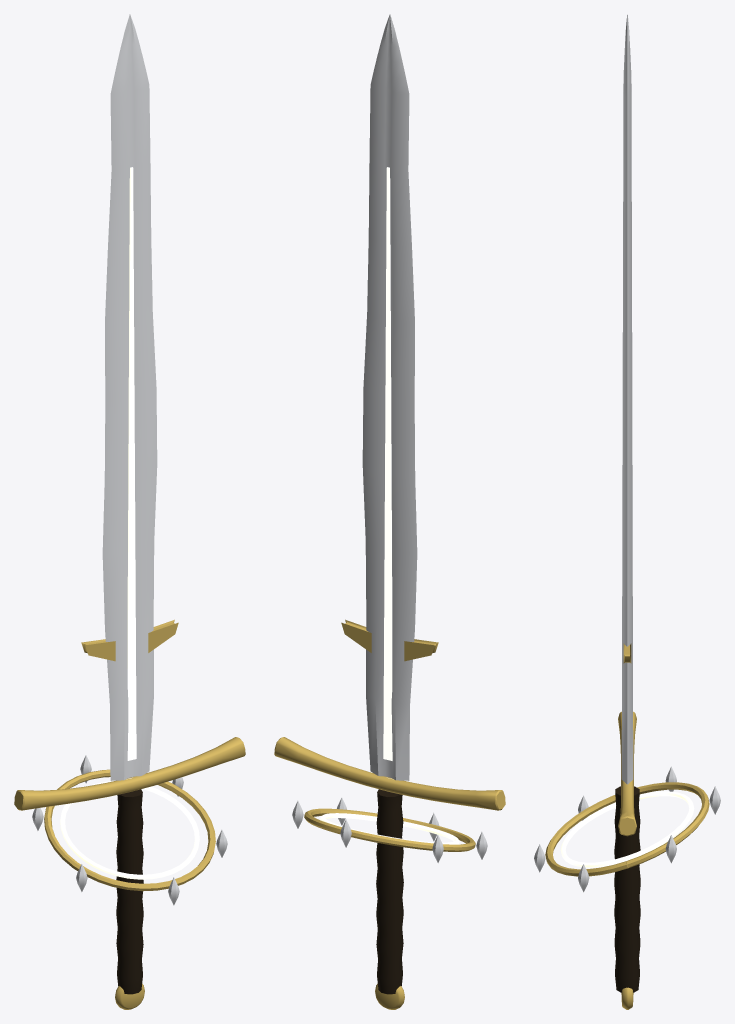
Rendered from esc_w_knight_greatsword_6.glb.
3 renders of one model, left to right at view 1: azimuth 30°, elevation 25°; view 2: azimuth 150°, elevation 25°; view 3: azimuth 270°, elevation 25°, orthographic.
Parts seen in each view (by area): view 1: esc_w_knight_greatsword_6; view 2: esc_w_knight_greatsword_6; view 3: esc_w_knight_greatsword_6.
Part boxes in pixels (bbox=[...]): esc_w_knight_greatsword_6: bbox=[14, 14, 245, 1009]; esc_w_knight_greatsword_6: bbox=[274, 14, 505, 1009]; esc_w_knight_greatsword_6: bbox=[534, 14, 720, 1009].
Bounding box in the file's own units: 0.4051 × 1.71 × 0.2916.
